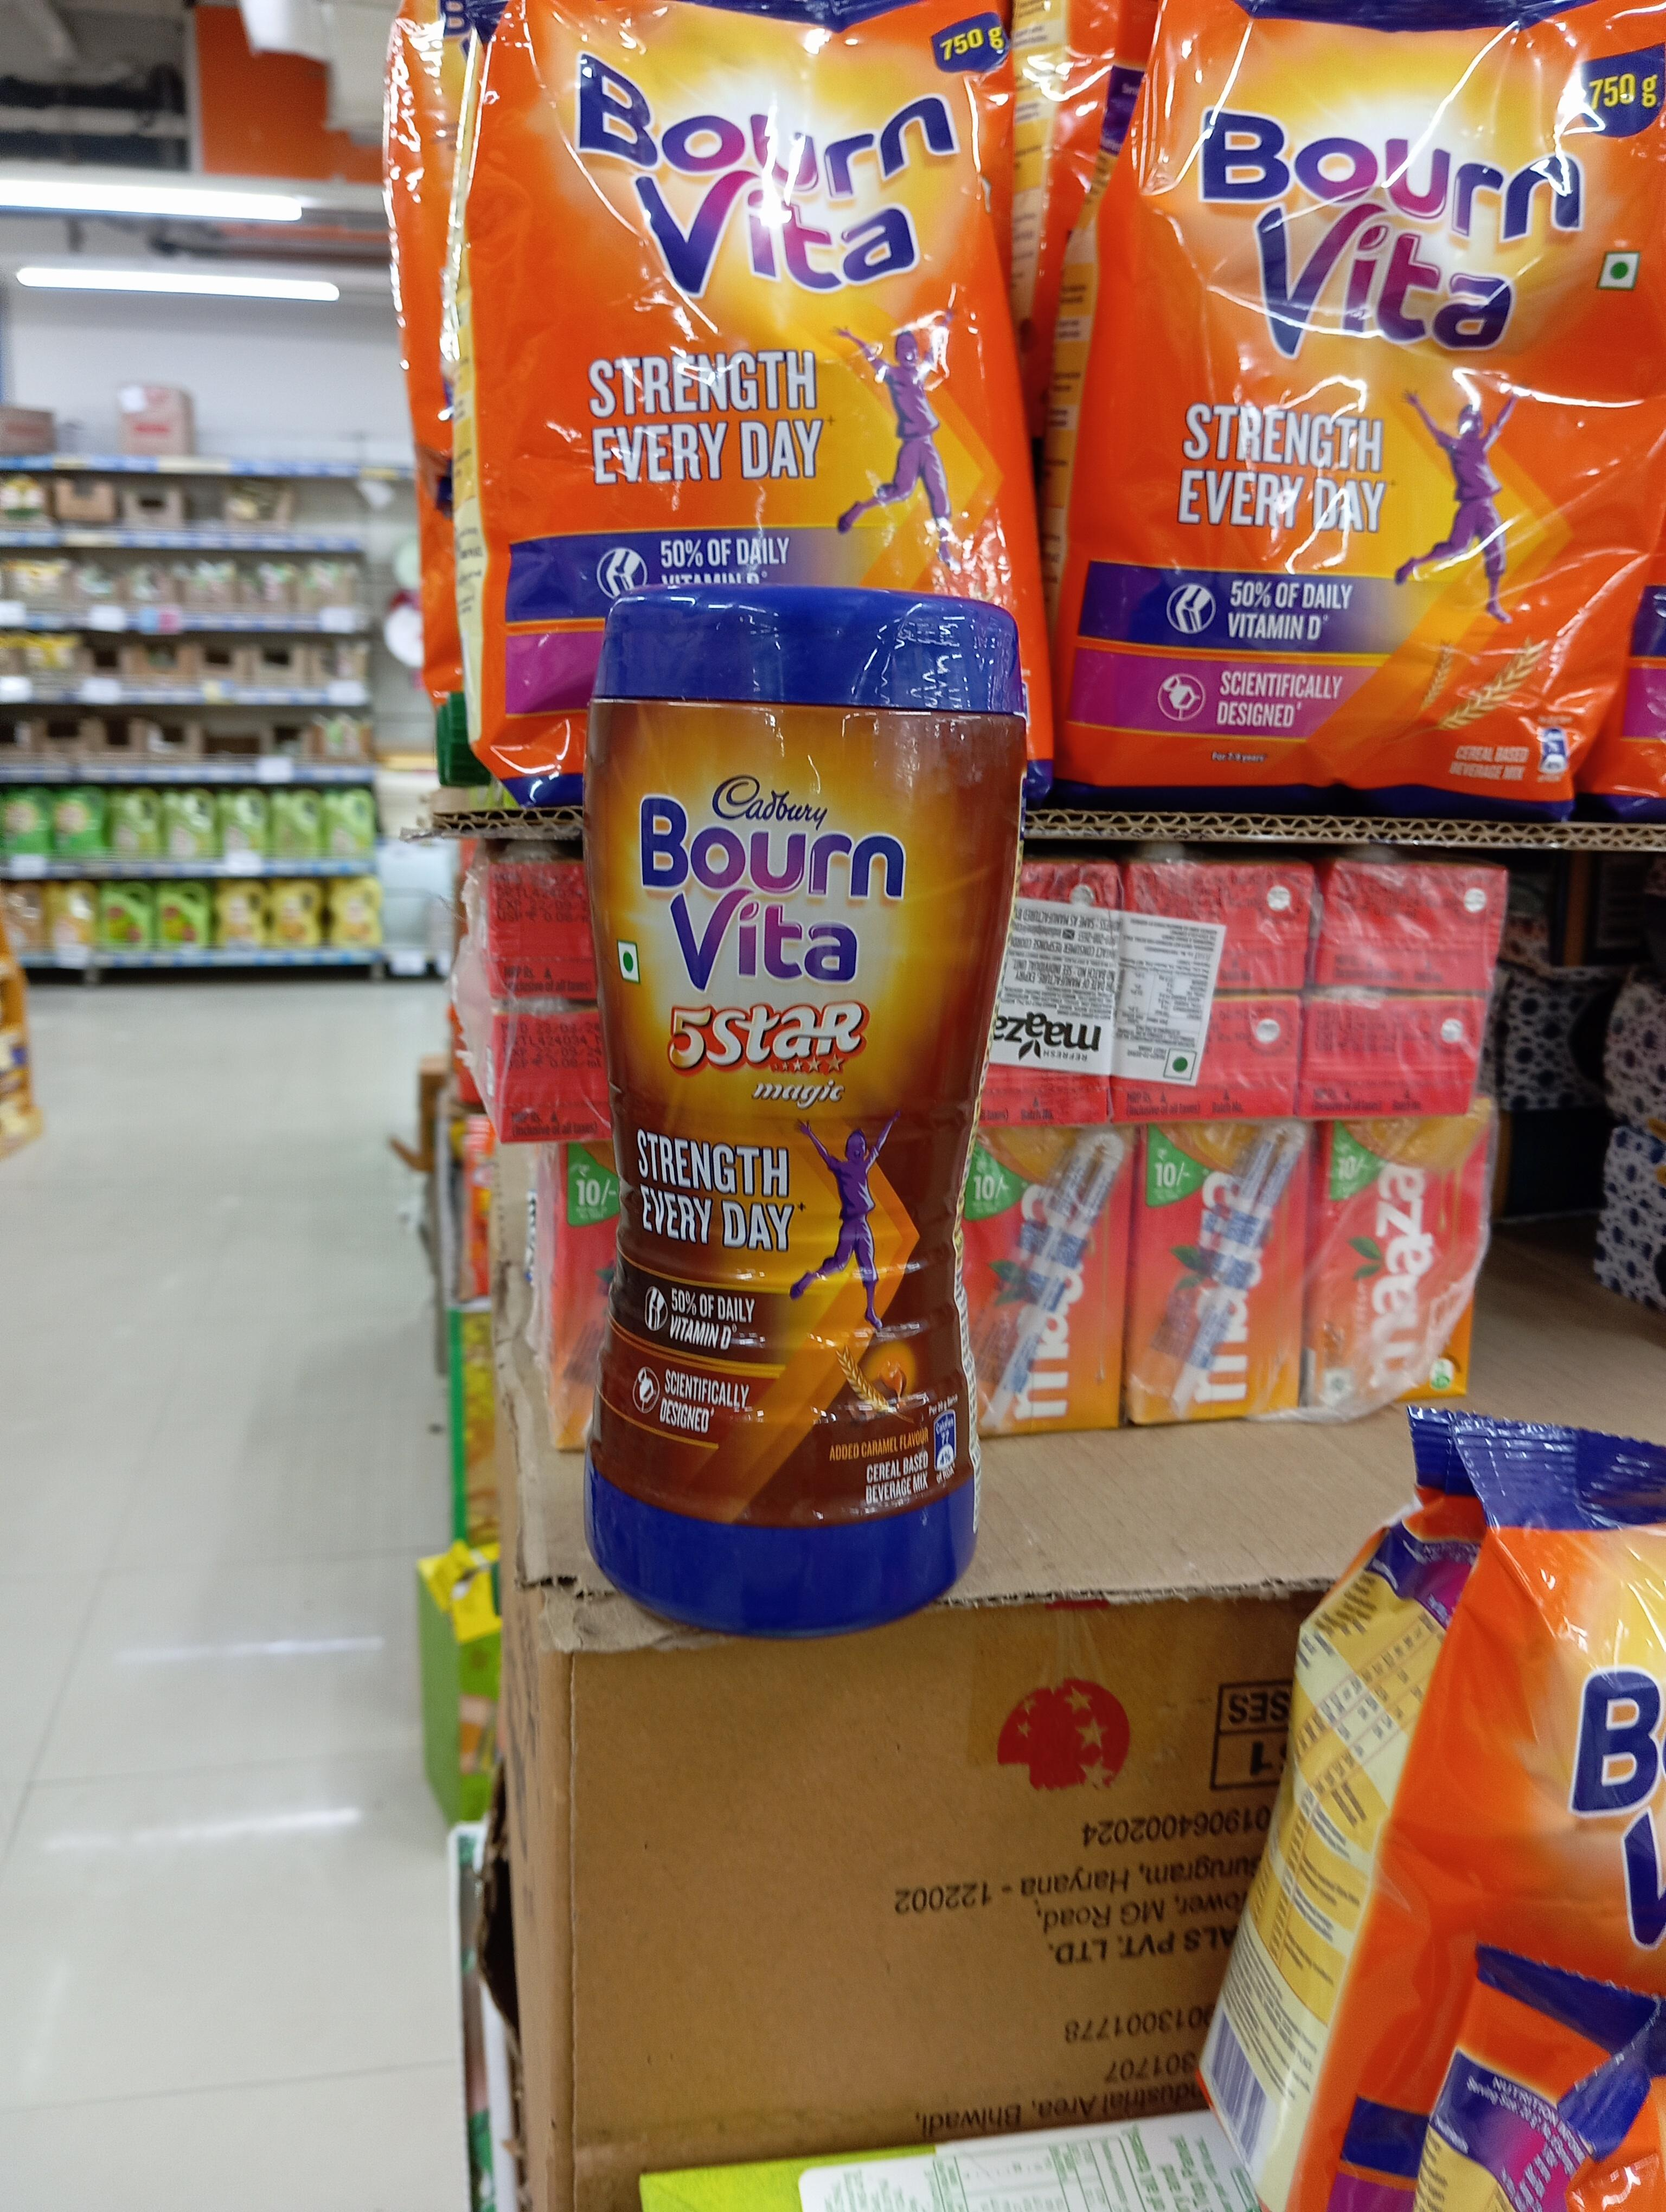BOURN_VITA_FIVE_STAR_MAGIC_500_G_JAR: (590, 589, 1019, 1637)
